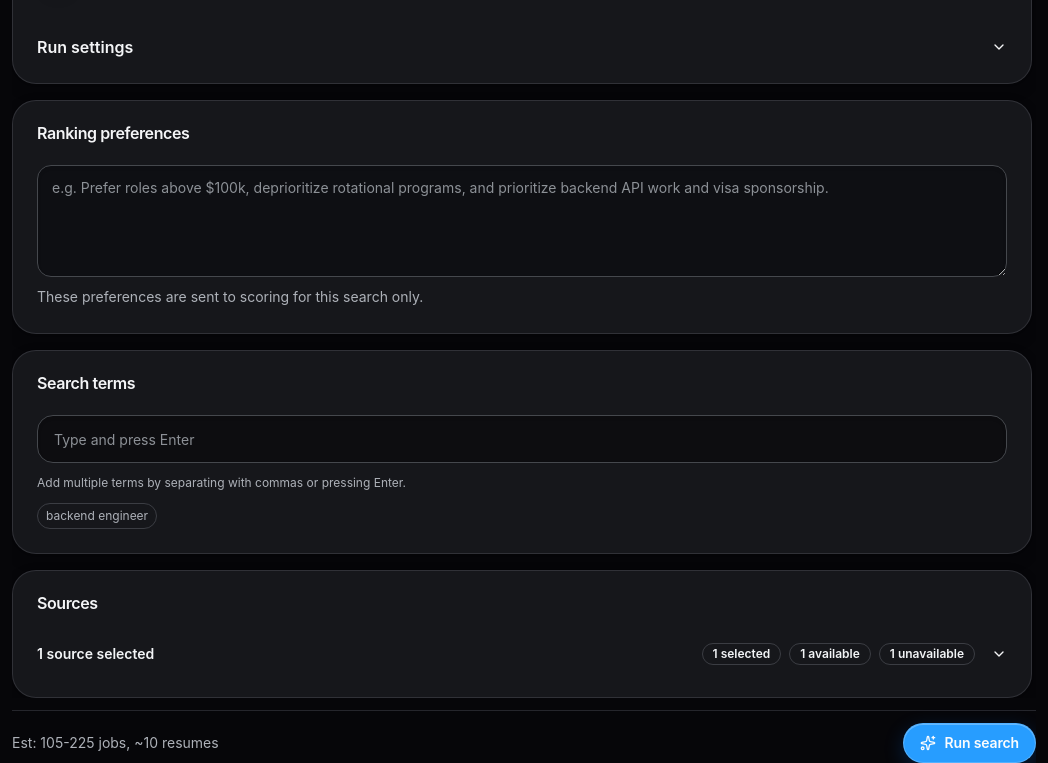
Test: AutomaticRunTab › disables and prunes Naukri outside India
(page scrolled)
Click the button with aria-label "Review and edit sources": click(96, 654) [37,635,1007,673]
(page scrolled)
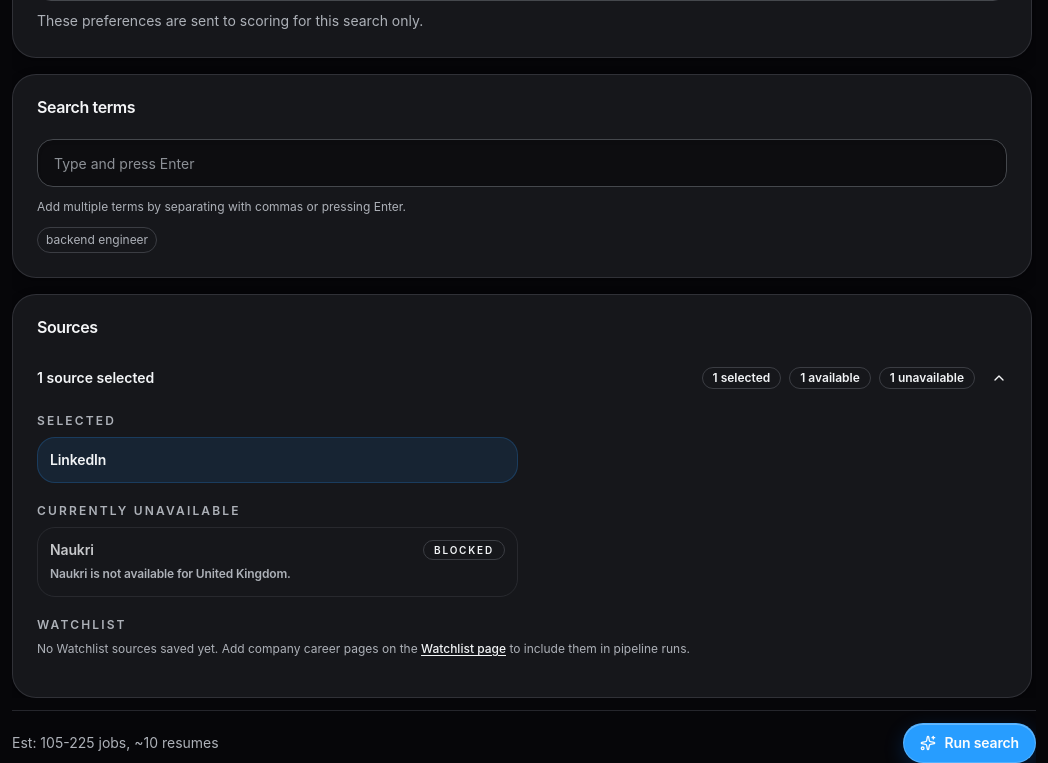
Check: the button "Naukri" is disabled, box [37,527,518,597]
